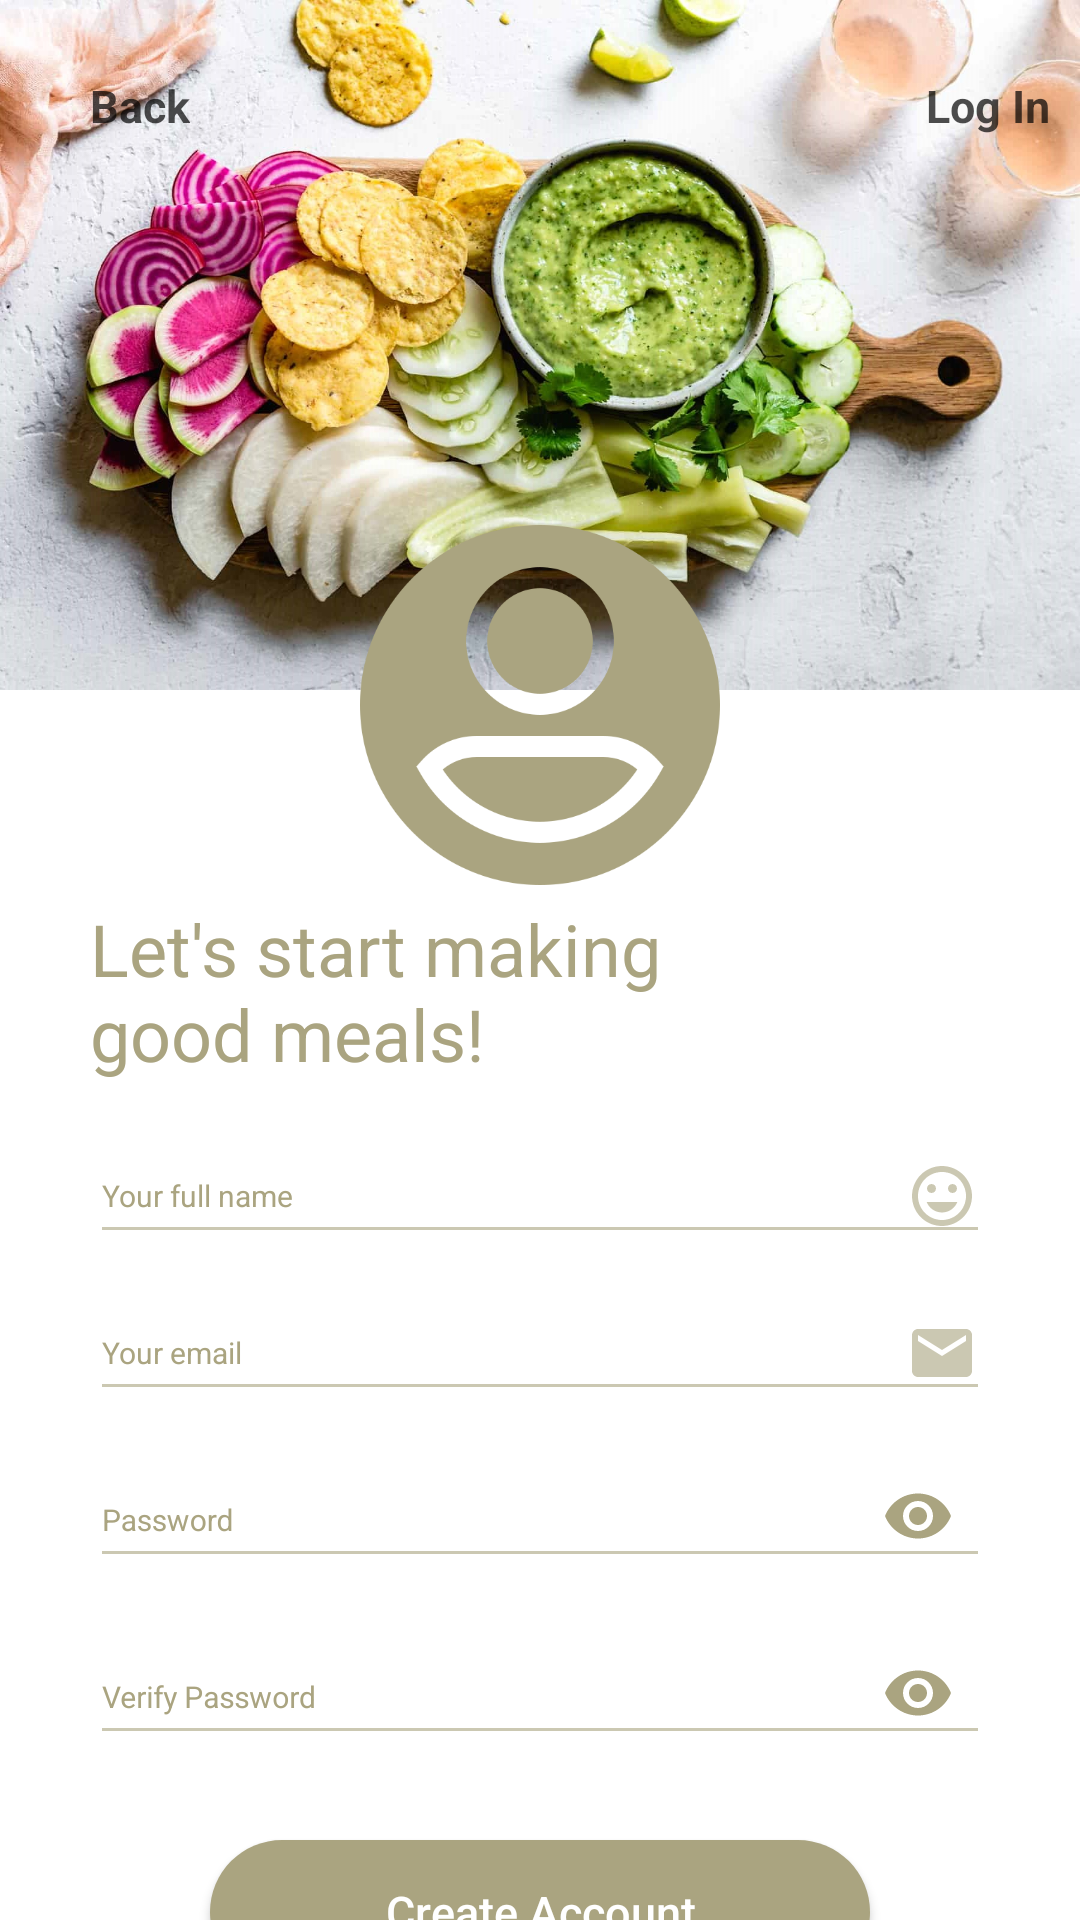

Where to tap for icons on this 1080 x 1920 app screen, as [x,y]:
user: [540,705]
